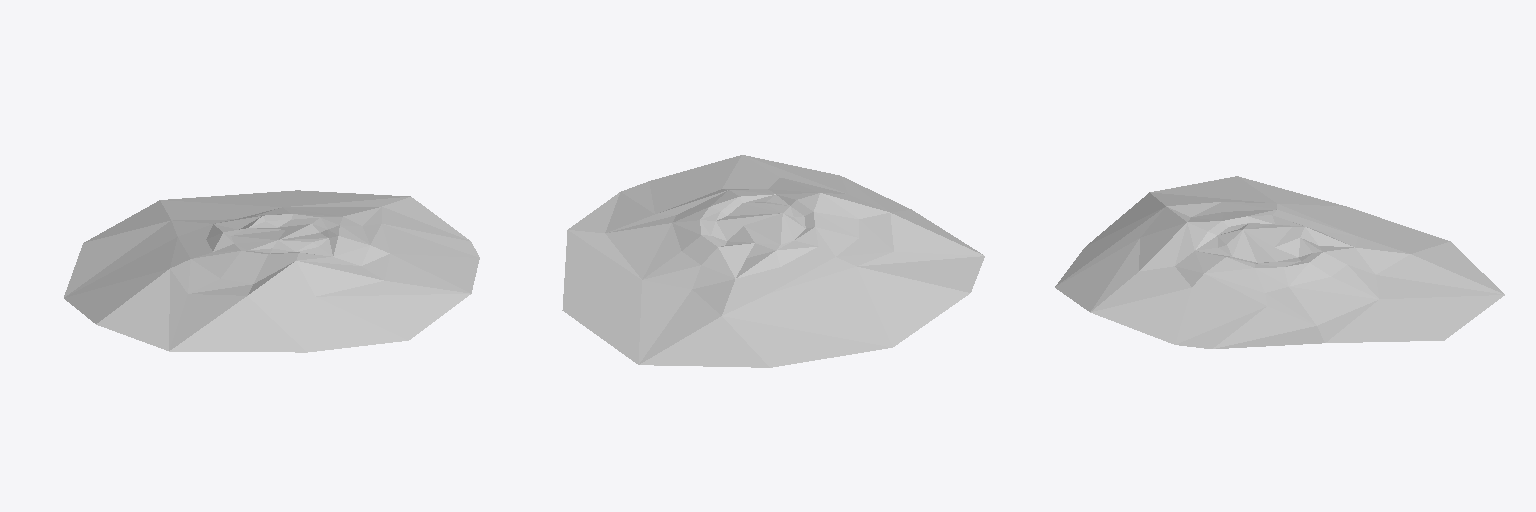
File: island.obj
3 views of the same model, side by side, from view 1: azimuth 30°, elevation 25°; view 2: azimuth 150°, elevation 25°; view 3: azimuth 270°, elevation 25° (orthographic).
Size of the model in its own units: 0.9842 by 0.1593 by 1.06.